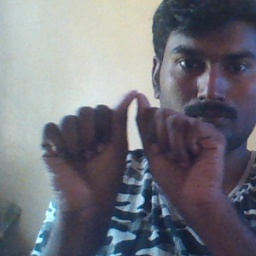A: (39, 90, 232, 203)
